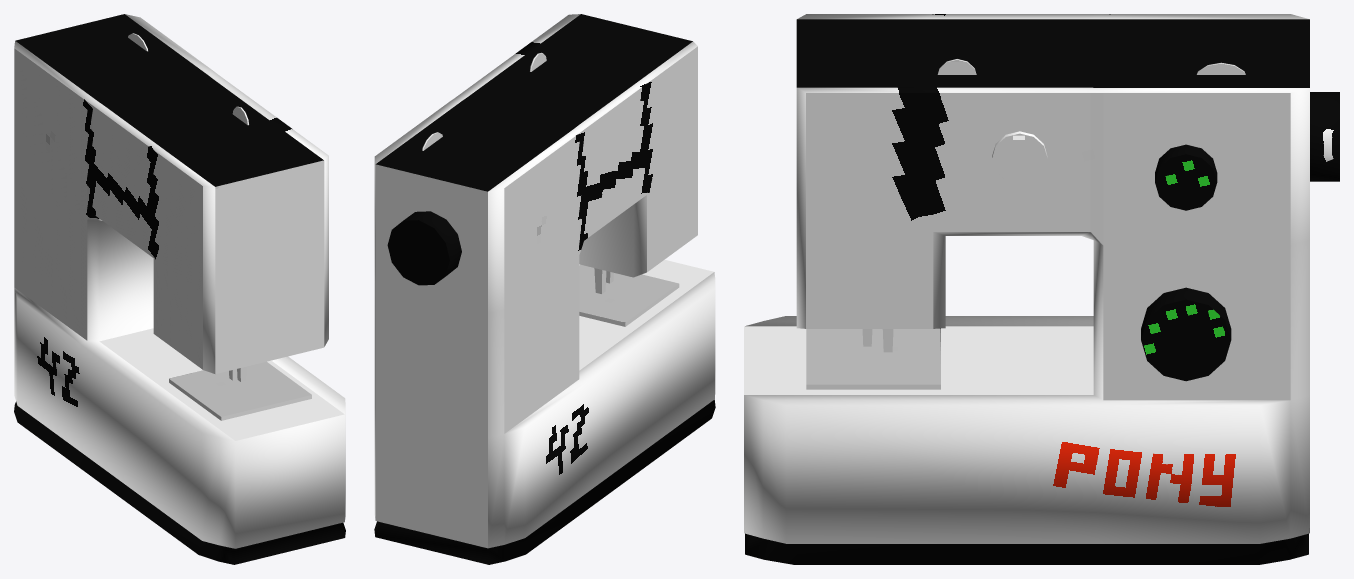
Rendered from sewing_machine.glb.
3 renders of one model, left to right at view 1: azimuth 30°, elevation 25°; view 2: azimuth 150°, elevation 25°; view 3: azimuth 270°, elevation 25°, orthographic. The views are drawn at different scales.
Visible parts, largest first — view 1: Cube; view 2: Cube; view 3: Cube.
Boxes of the visible parts, box(x1,y1,x2,y2) form: Cube: box(14, 14, 345, 564); Cube: box(374, 14, 715, 564); Cube: box(744, 14, 1339, 564).
Bounding box in the file's own units: 3 × 6.96 × 7.8.
Materials: 1 (1 with a texture image).
